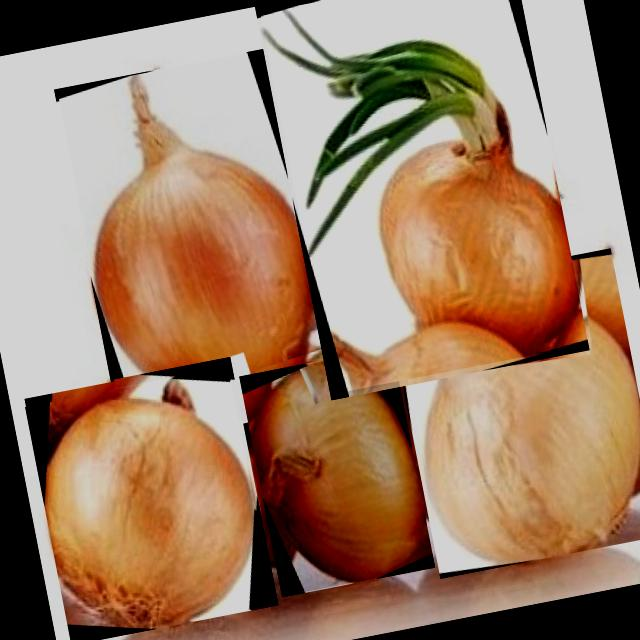healthy: (95, 75, 318, 417), (392, 287, 640, 561), (47, 378, 256, 628), (251, 364, 425, 581)
sprouting: (264, 9, 579, 356)
